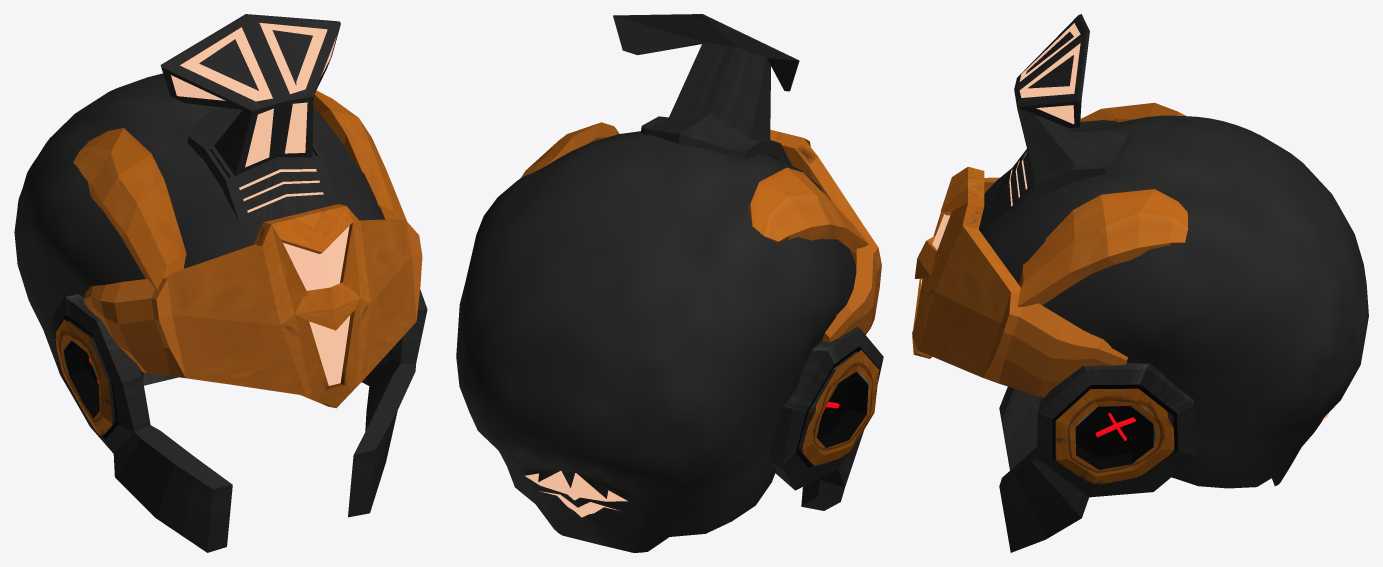
The model's file is Helmet2.glb.
The picture shows the model from 3 angles, left to right: view 1: azimuth 30°, elevation 25°; view 2: azimuth 150°, elevation 25°; view 3: azimuth 270°, elevation 25°; orthographic projection. The views are drawn at different scales.
Visible parts, largest first — view 1: Plane.012, Sphere.006, Cube.021, Plane.013, Plane.011; view 2: Sphere.006, Cube.021, Plane.013, Plane.011, Plane.012; view 3: Sphere.006, Plane.013, Plane.012, Cube.021, Plane.011.
Part boxes in pixels (box(x1,y1,x2,y2)): Plane.012: box(84, 204, 422, 408); Sphere.006: box(14, 73, 385, 389); Cube.021: box(160, 14, 340, 225); Plane.013: box(51, 289, 427, 552); Plane.011: box(73, 90, 406, 289); Sphere.006: box(456, 131, 856, 552); Cube.021: box(613, 14, 799, 165); Plane.013: box(768, 327, 883, 510); Plane.011: box(521, 122, 868, 266); Plane.012: box(770, 129, 881, 342); Sphere.006: box(979, 115, 1368, 488); Plane.013: box(999, 362, 1196, 552); Plane.012: box(912, 166, 1127, 397); Cube.021: box(991, 14, 1132, 219); Plane.011: box(1017, 102, 1188, 306).
Size of the model in its own units: 1.16 by 1.7 by 1.46.
5 materials, 1 textured.
